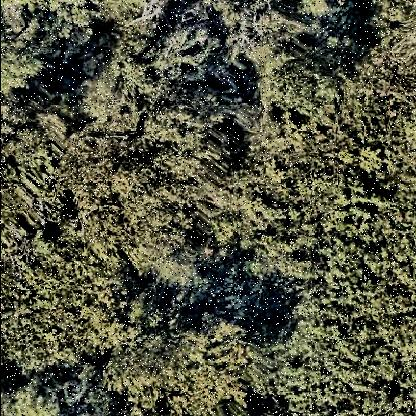tree-top: (109, 299, 246, 416), (147, 90, 242, 192), (127, 186, 198, 284), (258, 47, 344, 123), (160, 337, 246, 413), (76, 49, 148, 139), (153, 20, 229, 91), (1, 1, 89, 62), (1, 6, 62, 90), (3, 87, 67, 156), (3, 378, 70, 416), (96, 2, 171, 30), (1, 50, 42, 96), (348, 142, 388, 184)
